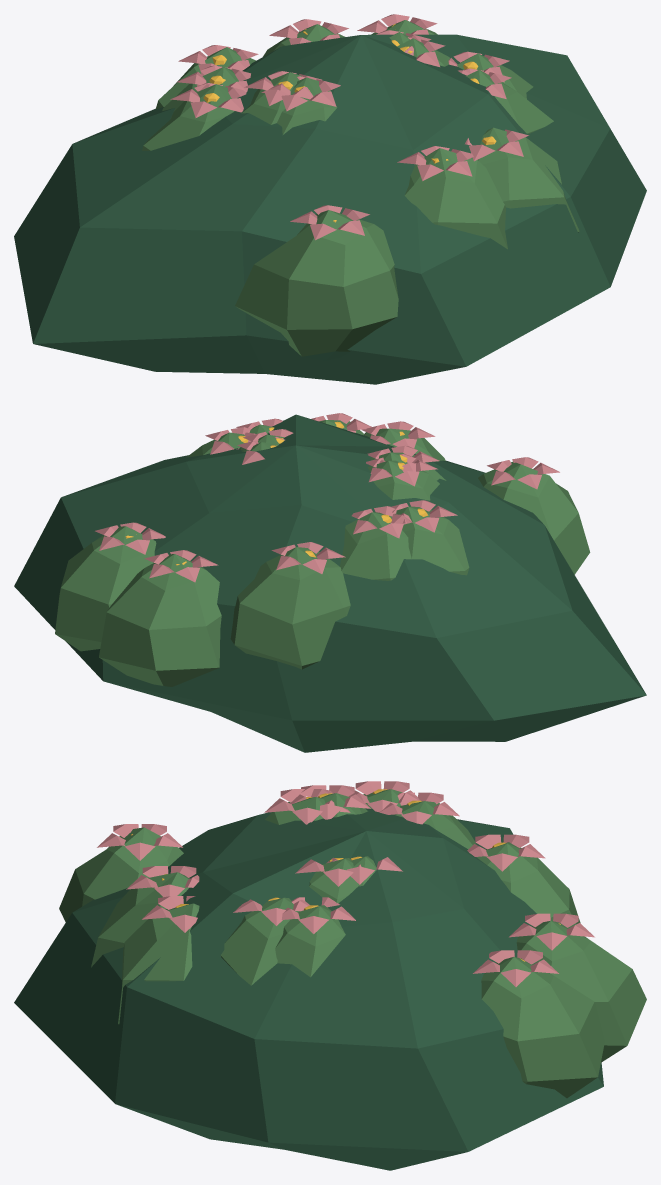
The model's file is b08_azalea_mound.glb.
The picture shows the model from 3 angles, top to bottom: view 1: azimuth 30°, elevation 25°; view 2: azimuth 150°, elevation 25°; view 3: azimuth 270°, elevation 25°; orthographic projection. The views are drawn at different scales.
Parts seen in each view (by area): view 1: b08_azalea_mound; view 2: b08_azalea_mound; view 3: b08_azalea_mound.
Part boxes in pixels (x1,y1,x2,y2): b08_azalea_mound: (14, 14, 646, 384); b08_azalea_mound: (14, 413, 646, 752); b08_azalea_mound: (14, 781, 646, 1170).
Size of the model in its own units: 1.54 by 0.76 by 1.31.
